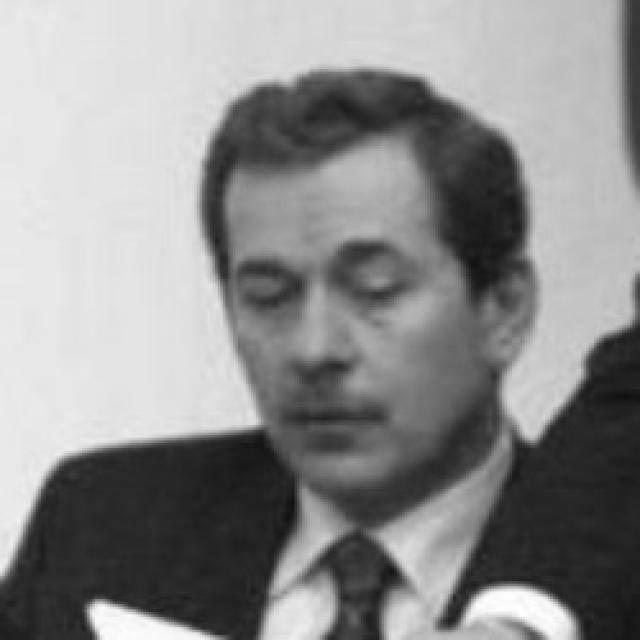real: (216, 143, 490, 497), (238, 262, 410, 316)
